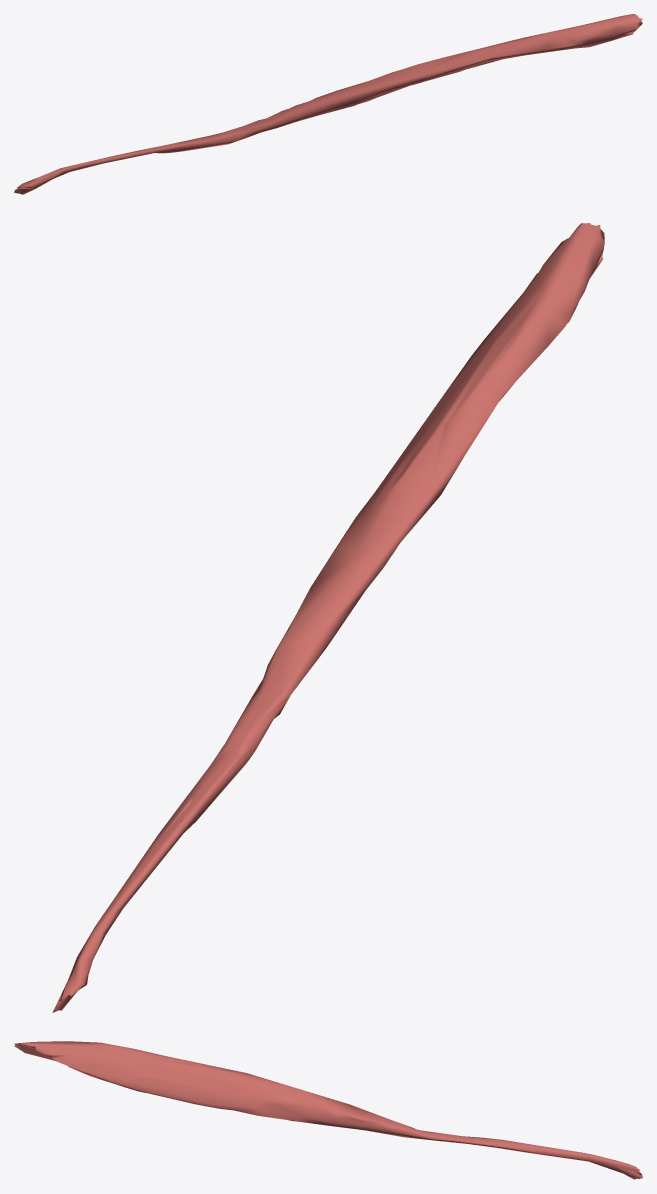
3 views of the same model, one above another, from view 1: azimuth 90°, elevation 25°; view 2: azimuth 150°, elevation 25°; view 3: azimuth 270°, elevation 25° (orthographic). The views are drawn at different scales.
Parts seen in each view (by area): view 1: 右侧尺侧腕伸肌尺头; view 2: 右侧尺侧腕伸肌尺头; view 3: 右侧尺侧腕伸肌尺头.
Part boxes in pixels (x1=…): 右侧尺侧腕伸肌尺头: x1=14, y1=14, x2=642, y2=194; 右侧尺侧腕伸肌尺头: x1=52, y1=223, x2=604, y2=1012; 右侧尺侧腕伸肌尺头: x1=14, y1=1041, x2=642, y2=1179.
Bounding box in the file's own units: 0.034 × 0.084 × 0.3019.
